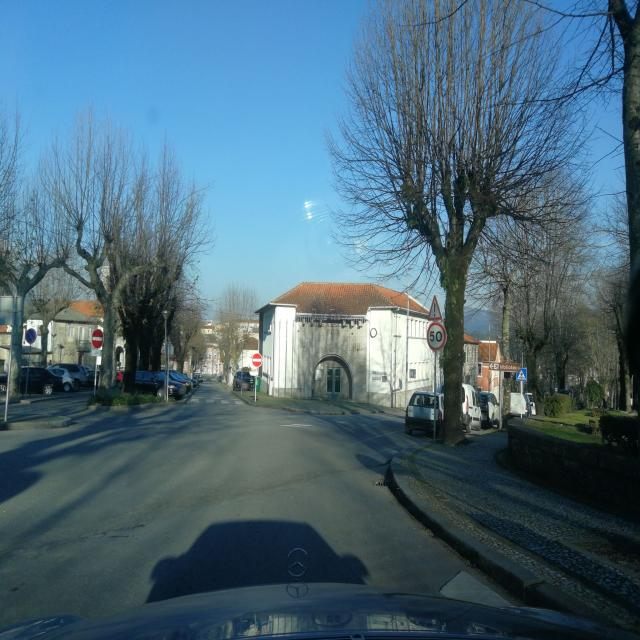car: (404, 389, 471, 438), (116, 369, 186, 398), (14, 366, 74, 396), (49, 362, 92, 388), (158, 368, 195, 392), (476, 390, 500, 425), (232, 370, 254, 391)
